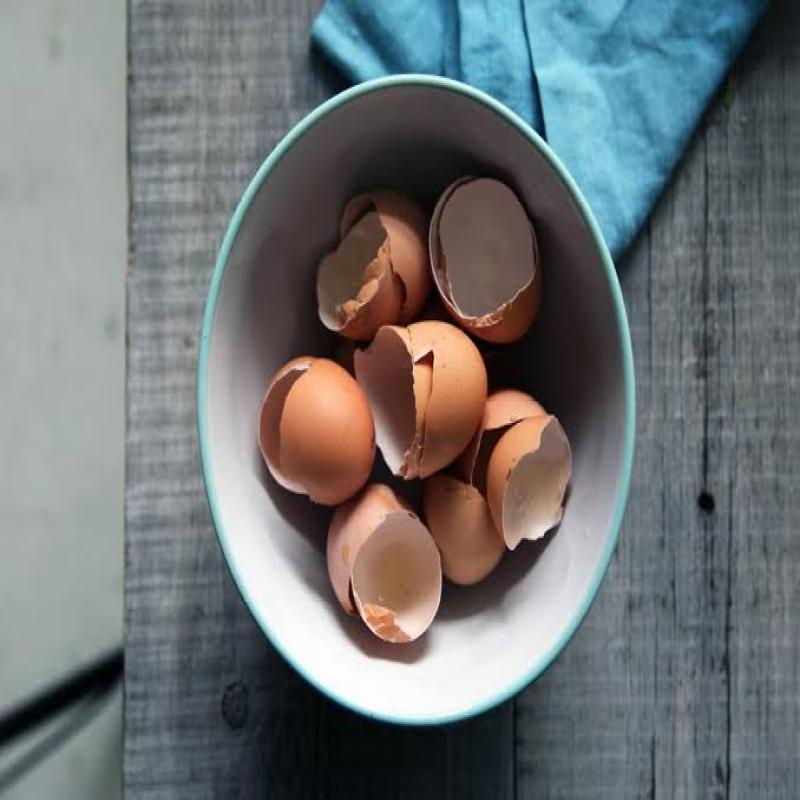egg shell: (348, 320, 491, 483), (427, 177, 545, 349), (324, 485, 444, 651), (257, 358, 379, 510), (317, 193, 429, 350), (474, 391, 575, 552), (401, 473, 510, 589)
